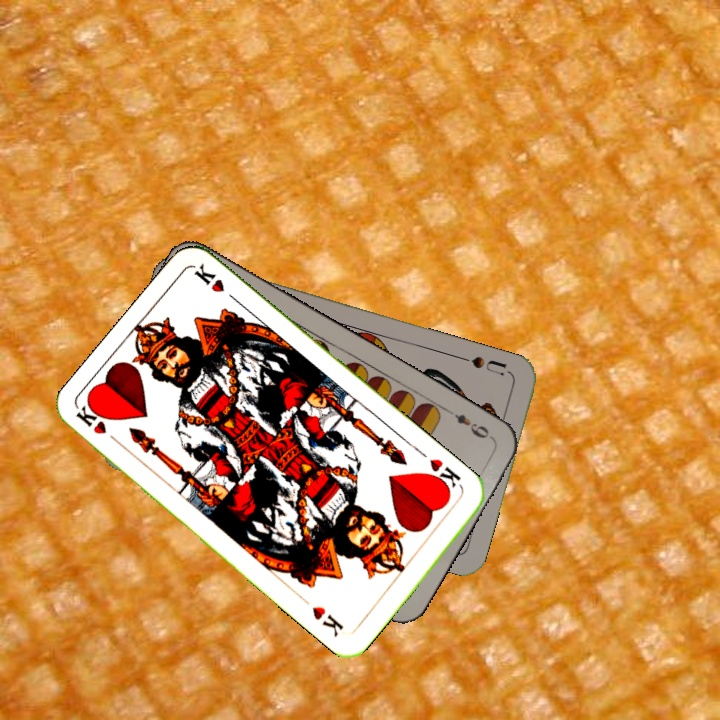E9: (450, 409, 496, 442)
HK: (72, 401, 125, 449), (421, 454, 466, 496)
SU: (456, 352, 509, 378)
